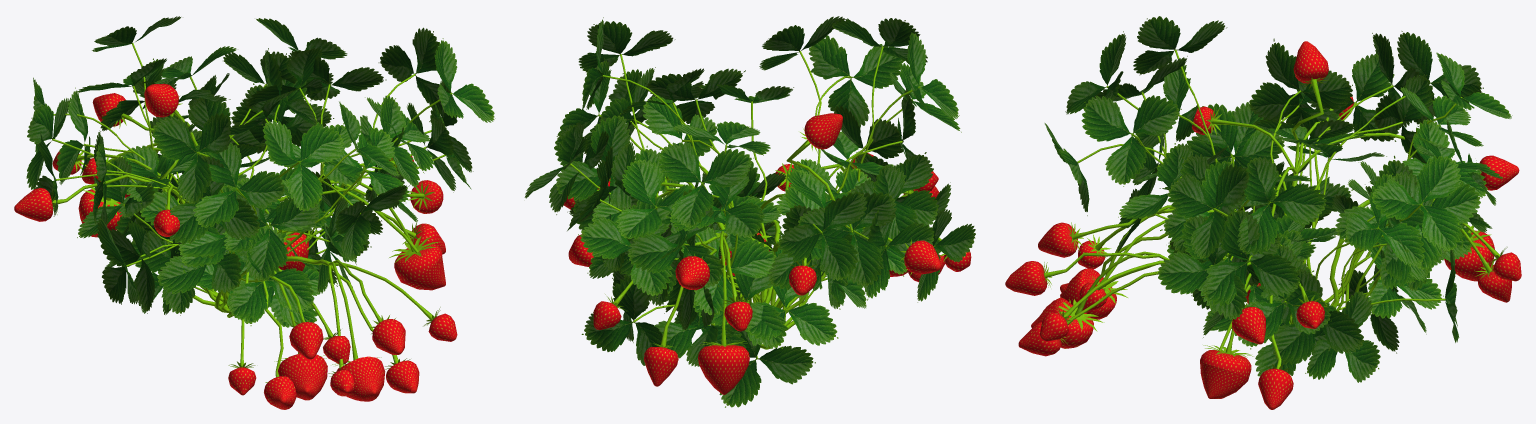
The model's file is strawberry_plant_05.obj.
The picture shows the model from 3 angles, left to right: view 1: azimuth 30°, elevation 25°; view 2: azimuth 150°, elevation 25°; view 3: azimuth 270°, elevation 25°; orthographic projection. The views are drawn at different scales.
Parts seen in each view (by area): view 1: Strawberry_005; view 2: Strawberry_005; view 3: Strawberry_005.
Boxes of the visible parts, x1,y1,x2,y2 form: Strawberry_005: (14, 16, 495, 409); Strawberry_005: (524, 16, 975, 407); Strawberry_005: (1005, 16, 1521, 409).
Size of the model in its own units: 0.4843 by 0.334 by 0.5047.
5 materials, 5 textured.
